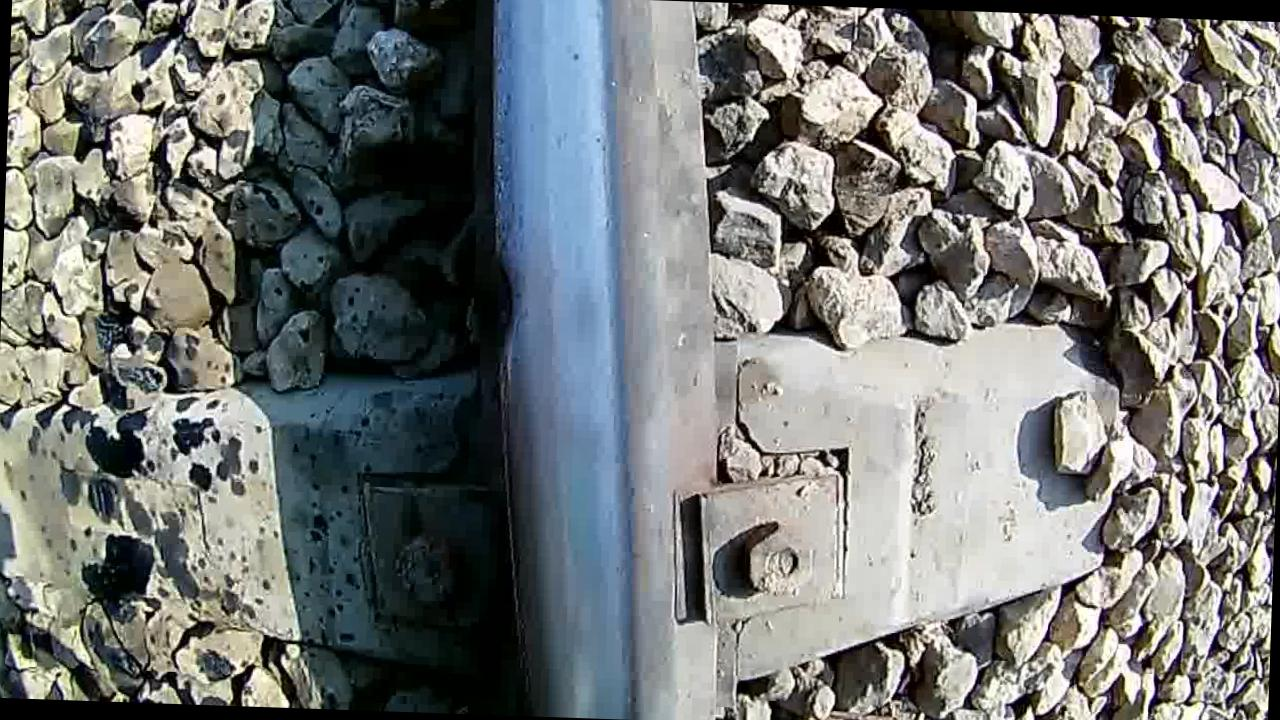crack: (484, 228, 542, 384)
